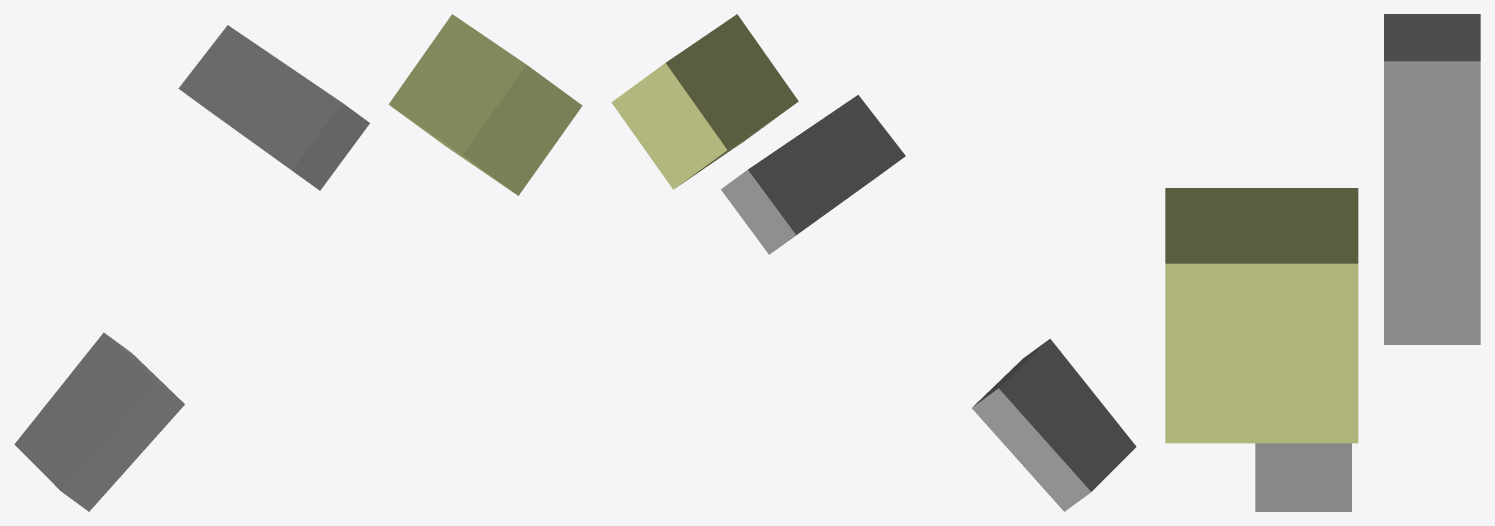
3 views of the same model, side by side, from view 1: azimuth 30°, elevation 25°; view 2: azimuth 150°, elevation 25°; view 3: azimuth 270°, elevation 25° (orthographic). The views are drawn at different scales.
Visible parts, largest first — view 1: 0_1_0_2_1_3_3_2_0; view 2: 0_1_0_2_1_3_3_2_0; view 3: 0_1_0_2_1_3_3_2_0.
Part boxes in pixels (box(x1,y1,x2,y2)): 0_1_0_2_1_3_3_2_0: box(14, 14, 582, 511); 0_1_0_2_1_3_3_2_0: box(611, 14, 1136, 511); 0_1_0_2_1_3_3_2_0: box(1165, 14, 1480, 511).
Size of the model in its own units: 31.73 by 22.96 by 9.8.
